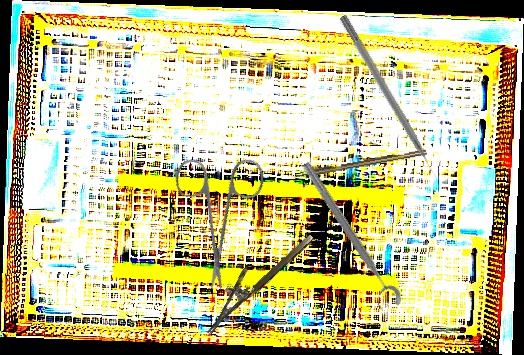Fixation Ring: (289, 158, 406, 316)
Hook Surgical: (289, 148, 428, 180)
Iris Scissors: (134, 125, 304, 295)
Needle Holder: (191, 220, 316, 336)
Pusher: (336, 14, 443, 185)
